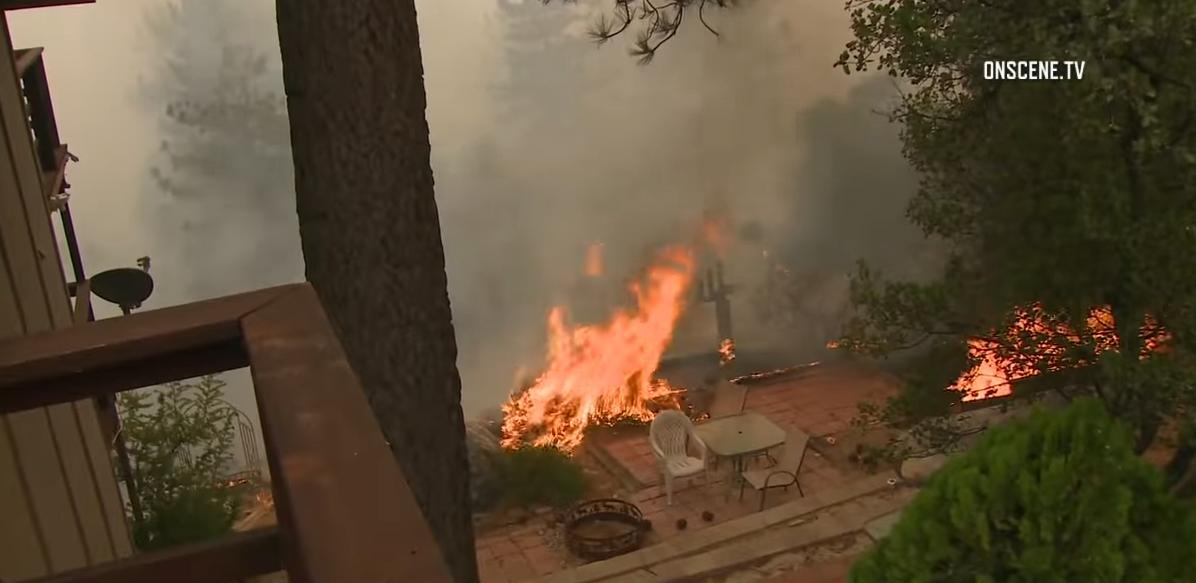Fire: (491, 220, 702, 460), (947, 289, 1178, 406)
